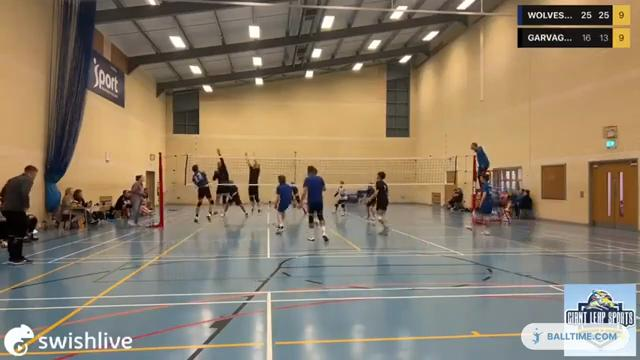attacco: (185, 158, 214, 226)
muro: (211, 142, 232, 215), (243, 149, 263, 214)
